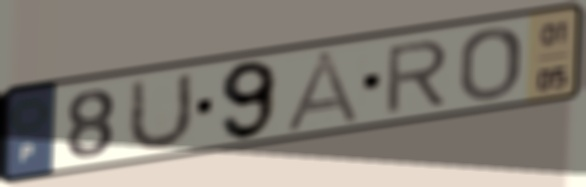8: (64, 87, 119, 160)
9: (217, 59, 283, 142)
A: (280, 47, 368, 135)
O: (456, 24, 525, 104)
R: (382, 35, 452, 117)
U: (122, 68, 197, 157)
